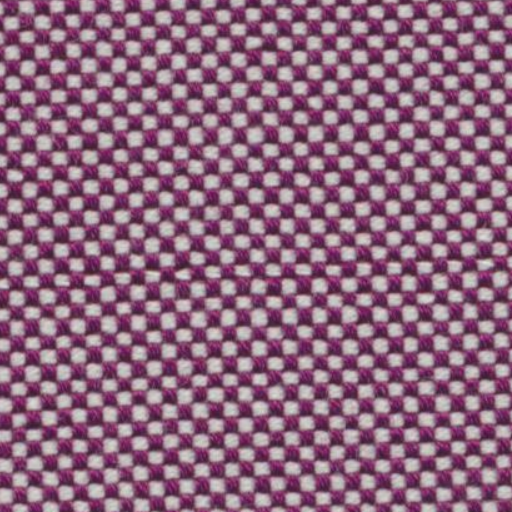TuoSha: (5, 238, 496, 314)
